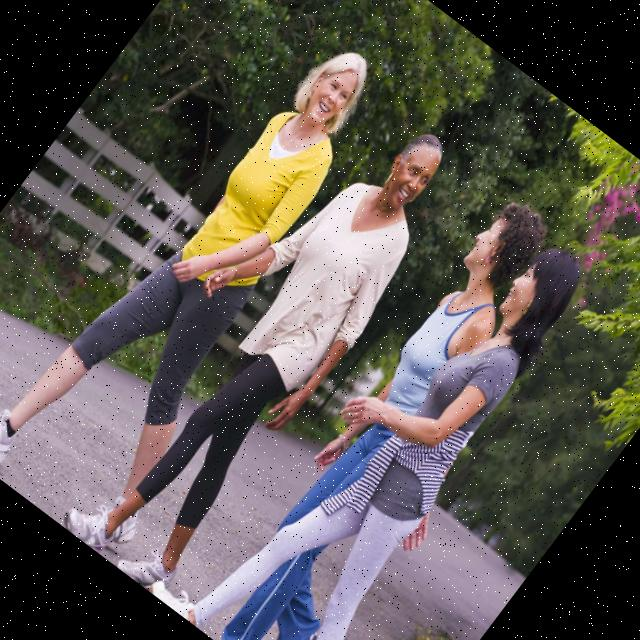Person: (0, 0, 450, 565), (36, 77, 484, 600), (148, 171, 619, 640), (186, 190, 608, 640)
